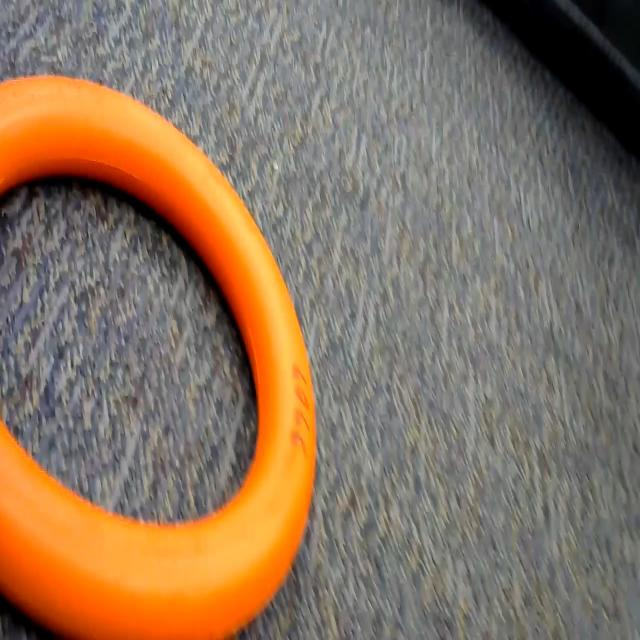note: (0, 66, 338, 640)
